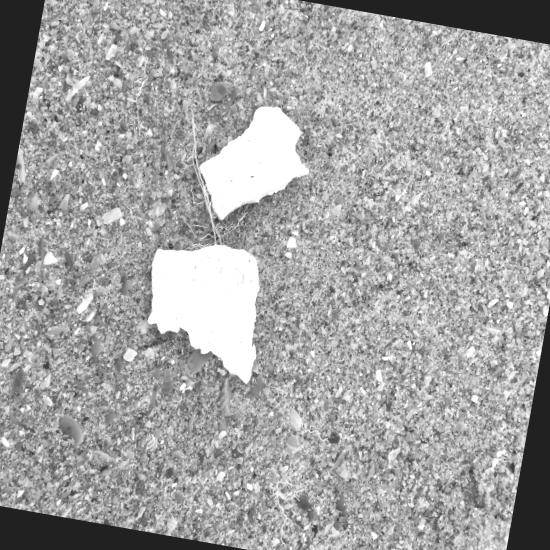Other plastic: (240, 305, 451, 504), (495, 147, 506, 160)
Scrap metal: (150, 345, 214, 543)
